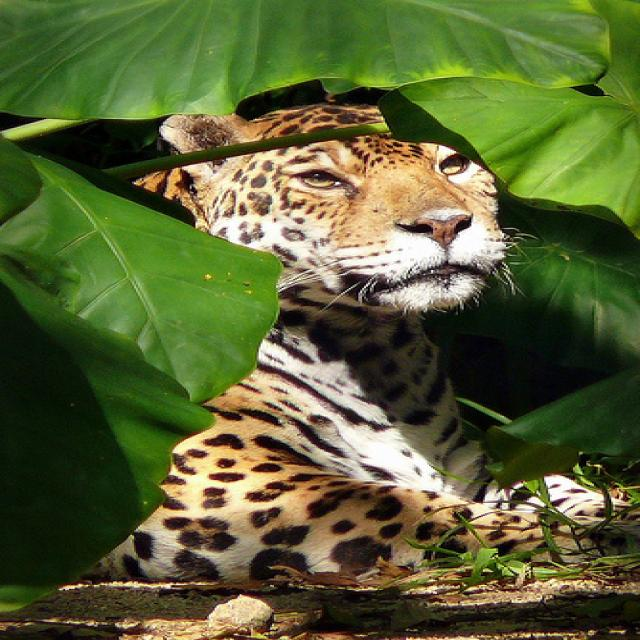Leopard: (77, 105, 620, 591)
